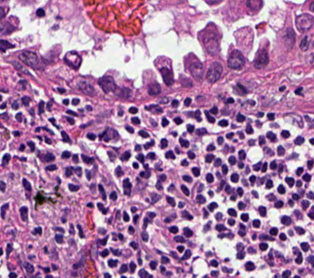nucleus: (203, 31, 218, 54), (18, 50, 38, 67), (206, 62, 222, 82), (64, 51, 81, 69), (228, 50, 243, 69), (98, 76, 115, 92), (254, 49, 268, 68), (12, 61, 30, 75), (189, 61, 202, 80), (77, 80, 94, 94), (160, 67, 173, 85), (0, 39, 13, 52), (148, 82, 160, 95), (118, 87, 130, 98), (123, 178, 130, 194), (204, 111, 214, 122), (81, 154, 93, 163), (98, 184, 105, 199), (97, 203, 107, 213), (61, 131, 70, 142), (20, 206, 27, 220), (22, 178, 30, 190), (236, 84, 246, 93), (266, 131, 275, 141), (192, 110, 200, 121), (43, 153, 54, 161), (2, 154, 10, 165), (17, 80, 26, 89), (179, 138, 188, 147), (121, 151, 130, 160), (196, 194, 205, 203), (208, 202, 217, 211), (151, 105, 161, 113), (217, 181, 225, 191), (181, 185, 189, 195), (166, 196, 174, 206), (182, 211, 192, 219), (38, 101, 44, 114), (77, 224, 83, 237), (195, 128, 206, 135), (22, 96, 30, 105), (144, 140, 153, 148), (205, 154, 214, 162), (65, 167, 73, 176), (230, 173, 238, 182), (99, 236, 107, 245), (138, 130, 148, 137), (115, 166, 122, 176), (68, 184, 78, 191), (215, 224, 225, 231), (141, 231, 148, 241), (259, 235, 273, 240), (36, 8, 44, 16), (253, 162, 261, 170), (277, 185, 285, 193), (228, 208, 236, 216), (184, 228, 192, 236), (236, 114, 245, 121), (131, 117, 140, 124), (219, 119, 228, 126), (27, 141, 34, 150), (277, 146, 284, 155), (165, 151, 174, 158), (137, 153, 144, 162), (74, 167, 81, 176), (192, 167, 199, 176), (206, 173, 213, 182), (203, 222, 210, 231), (32, 227, 41, 234), (55, 234, 62, 243), (66, 110, 76, 116), (261, 162, 267, 172), (259, 206, 265, 216), (174, 236, 184, 242), (171, 99, 178, 107), (66, 117, 74, 124), (187, 124, 194, 132), (62, 151, 70, 158), (228, 156, 235, 164), (214, 158, 221, 166), (183, 175, 191, 182), (152, 194, 159, 202), (274, 200, 282, 207), (253, 219, 260, 227), (169, 226, 177, 233), (143, 217, 148, 228), (161, 138, 167, 147), (239, 150, 245, 159), (108, 151, 114, 160), (46, 165, 56, 170), (0, 181, 5, 191), (72, 98, 79, 105), (267, 113, 274, 120), (147, 152, 154, 159), (241, 213, 248, 220), (270, 228, 277, 235), (130, 242, 137, 249), (184, 97, 190, 105), (12, 101, 18, 109), (129, 107, 137, 113), (15, 113, 21, 121), (174, 117, 182, 123), (162, 118, 168, 126), (246, 125, 252, 133), (125, 126, 133, 132), (87, 133, 95, 139), (264, 148, 272, 154), (270, 161, 276, 169), (249, 175, 255, 183), (266, 180, 272, 188), (156, 181, 162, 189), (110, 191, 116, 199), (267, 194, 275, 200), (1, 206, 5, 218), (85, 170, 90, 179), (203, 208, 208, 217), (123, 212, 128, 221), (210, 107, 217, 113), (207, 144, 214, 150), (188, 151, 194, 158), (197, 184, 203, 191), (252, 190, 258, 197), (238, 202, 244, 209), (148, 212, 155, 218), (215, 212, 221, 219), (238, 229, 245, 235), (259, 136, 264, 144), (73, 154, 78, 162), (222, 165, 227, 173), (225, 185, 230, 193), (237, 187, 242, 195), (45, 137, 51, 143), (159, 174, 165, 180), (228, 219, 234, 225), (226, 98, 233, 103), (13, 131, 20, 136), (226, 133, 233, 138), (217, 136, 222, 143), (133, 215, 138, 222), (128, 226, 133, 233), (57, 88, 65, 92), (47, 101, 51, 109), (49, 118, 54, 124), (248, 140, 254, 145), (19, 144, 24, 150), (181, 160, 187, 165), (133, 162, 138, 168), (140, 171, 146, 176), (208, 190, 213, 196), (230, 195, 236, 200), (278, 165, 282, 172), (56, 228, 63, 232), (70, 224, 73, 233), (63, 99, 68, 104), (86, 105, 91, 110), (135, 145, 140, 150), (238, 162, 243, 167), (168, 185, 173, 190), (178, 202, 183, 207), (131, 207, 136, 212), (240, 224, 245, 229), (118, 234, 123, 239), (1, 103, 5, 109), (35, 127, 41, 131), (239, 132, 243, 138), (164, 218, 170, 222), (207, 1, 218, 3), (116, 211, 119, 218), (118, 110, 122, 115), (256, 121, 261, 125), (175, 148, 179, 153), (243, 180, 247, 185), (87, 203, 92, 207), (100, 228, 104, 233), (258, 112, 262, 116), (144, 164, 148, 168), (20, 157, 25, 160), (250, 101, 254, 104), (81, 125, 85, 128), (173, 132, 176, 136)
